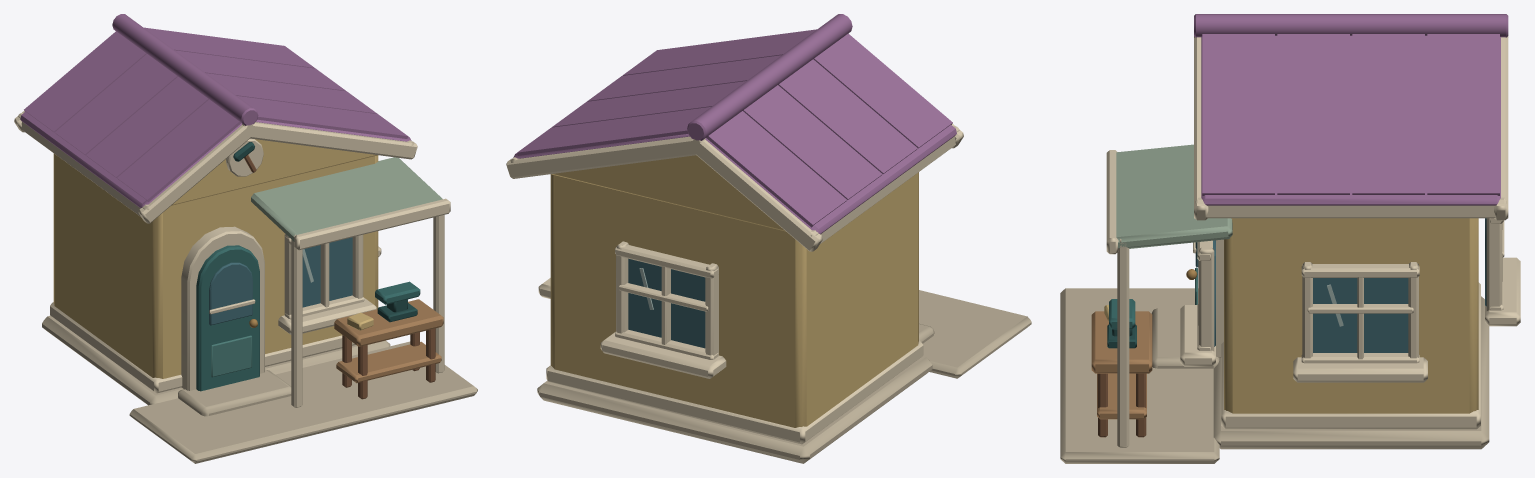
The model's file is workshop_level_2.glb.
3 views of the same model, side by side, from view 1: azimuth 30°, elevation 25°; view 2: azimuth 150°, elevation 25°; view 3: azimuth 270°, elevation 25° (orthographic). The views are drawn at different scales.
Parts seen in each view (by area): view 1: workshop_level_2_runtime; view 2: workshop_level_2_runtime; view 3: workshop_level_2_runtime.
Boxes of the visible parts, <box> form: workshop_level_2_runtime: <box>14,14,477,463</box>; workshop_level_2_runtime: <box>506,14,1031,463</box>; workshop_level_2_runtime: <box>1060,14,1520,463</box>.
Bounding box in the file's own units: 3.35 × 3.24 × 3.87.
